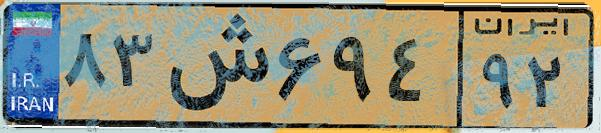2: (525, 38, 570, 115)
3: (110, 28, 158, 98)
4: (385, 28, 445, 110)
6: (270, 28, 330, 110)
8: (57, 26, 110, 100)
9: (330, 28, 385, 110), (475, 38, 525, 113)
ش: (158, 12, 270, 120)
